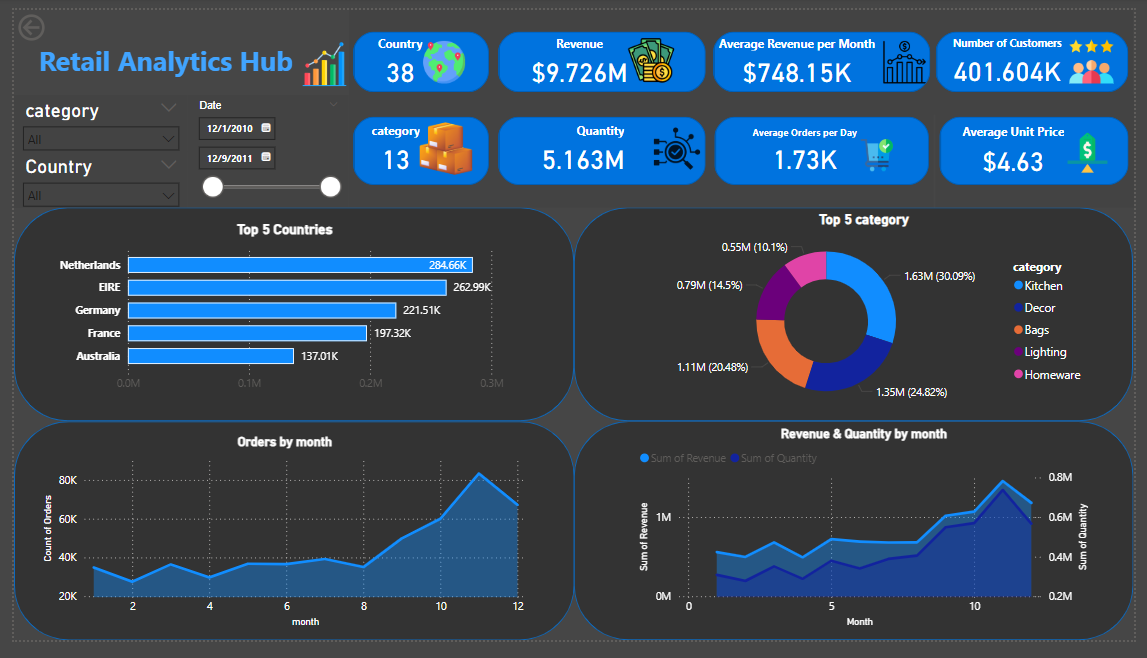

The page's visual inventory and layout, read from the dashboard file:
{"tool":"powerbi","page":{"name":"Online Retail","canvas":[1280,720],"ordinal":0},"visuals":[{"type":"cardVisual","fields":{"Data":["Sum(Online_Retail_edit.Quantity)"]},"box":[548.5,96.9,247.9,128.8],"z":0},{"type":"cardVisual","fields":{"Data":["Count(Online_Retail_edit.category)"]},"box":[382.8,96.9,165.6,128.8],"z":1000},{"type":"cardVisual","fields":{"Data":["Count(Online_Retail_edit.Country)"]},"box":[382.8,0,165.6,119],"z":2000},{"type":"slicer","fields":{"Values":["Online_Retail_edit.category"]},"box":[0,96.9,198.8,65],"z":3000},{"type":"actionButton","box":[0,0,100,40],"z":4000},{"type":"slicer","fields":{"Values":["Online_Retail_edit.Country"]},"box":[0,160.7,198.8,65],"z":5000},{"type":"cardVisual","title":"Revenue 💰","fields":{"Data":["Sum(Online_Retail_edit.Revenue)"]},"box":[548.5,0,247.9,119],"z":6000},{"type":"cardVisual","title":"Revenue 💰","fields":{"Data":["CountNonNull(Online_Retail_edit.CustomerID)"]},"box":[1049.1,0,230.7,119],"z":7000},{"type":"cardVisual","title":"Revenue 💰","fields":{"Data":["Online_Retail_edit.Measure 2"]},"box":[793.9,0,258.9,119],"z":8000},{"type":"cardVisual","title":"Revenue 💰","fields":{"Data":["Online_Retail_edit (2).Measure 3"]},"box":[796.3,96.9,255.2,128.8],"z":9000},{"type":"slicer","fields":{"Values":["Online_Retail_edit.InvoiceDate.1"]},"box":[198.8,96.9,184.1,128.8],"z":10000},{"type":"cardVisual","title":"Revenue 💰","fields":{"Data":["Online_Retail_edit.Average Unit Price"]},"box":[1052.8,96.9,227,128.8],"z":11000},{"type":"cardVisual","title":"Revenue 💰","fields":{"Data":["Count(Power BI.Name)"]},"box":[0,0,408.6,112.9],"z":12000},{"type":"shape","box":[640.5,225.8,639.3,244.2],"z":13000},{"type":"donutChart","title":"Top 5 category","fields":{"Category":["Online_Retail_edit.category"],"Y":["Sum(Online_Retail_edit.Revenue)"]},"box":[710.4,230.7,522.7,234.4],"z":14000},{"type":"shape","box":[0,469.9,640.5,250.3],"z":15000},{"type":"shape","box":[0,225.8,640.5,244.2],"z":18000},{"type":"shape","box":[640.5,469.9,639.3,250.3],"z":19000},{"type":"areaChart","title":" Revenue &  Quantity by month","fields":{"Category":["Online_Retail_edit.month"],"Y":["Sum(Online_Retail_edit.Revenue)"],"Y2":["Sum(Online_Retail_edit.Quantity)"]},"box":[710.4,476.1,522.7,234.4],"z":20000},{"type":"areaChart","title":"Orders by month","fields":{"Category":["Online_Retail_edit.month"],"Y":["CountNonNull(Online_Retail_edit.InvoiceNo)"]},"box":[28.2,484.7,562,225.8],"z":20500},{"type":"clusteredBarChart","title":"Top 5 Countries","fields":{"Category":["Online_Retail_edit.Country"],"Y":["Sum(Online_Retail_edit.Revenue)"]},"box":[28.2,241.7,562,213.5],"z":21000}]}

Visuals, with their boxes in screenshot pixels (x1, y1, x2, y2), scaled from the page's 1280x720 canvas onto the 1147x658 screenshot:
cardVisual - Sum(Online_Retail_edit.Quantity): (left=492, top=89, right=714, bottom=206)
cardVisual - Count(Online_Retail_edit.category): (left=343, top=89, right=491, bottom=206)
cardVisual - Count(Online_Retail_edit.Country): (left=343, top=0, right=491, bottom=109)
slicer - Online_Retail_edit.category: (left=0, top=89, right=178, bottom=148)
actionButton: (left=0, top=0, right=90, bottom=37)
slicer - Online_Retail_edit.Country: (left=0, top=147, right=178, bottom=206)
"Revenue 💰" cardVisual: (left=492, top=0, right=714, bottom=109)
"Revenue 💰" cardVisual: (left=940, top=0, right=1146, bottom=109)
"Revenue 💰" cardVisual: (left=711, top=0, right=943, bottom=109)
"Revenue 💰" cardVisual: (left=714, top=89, right=942, bottom=206)
slicer - Online_Retail_edit.InvoiceDate.1: (left=178, top=89, right=343, bottom=206)
"Revenue 💰" cardVisual: (left=943, top=89, right=1146, bottom=206)
"Revenue 💰" cardVisual: (left=0, top=0, right=366, bottom=103)
shape: (left=574, top=206, right=1146, bottom=430)
"Top 5 category" donutChart: (left=637, top=211, right=1105, bottom=425)
shape: (left=0, top=429, right=574, bottom=657)
shape: (left=0, top=206, right=574, bottom=430)
shape: (left=574, top=429, right=1146, bottom=657)
" Revenue &  Quantity by month" areaChart: (left=637, top=435, right=1105, bottom=649)
"Orders by month" areaChart: (left=25, top=443, right=529, bottom=649)
"Top 5 Countries" clusteredBarChart: (left=25, top=221, right=529, bottom=416)
